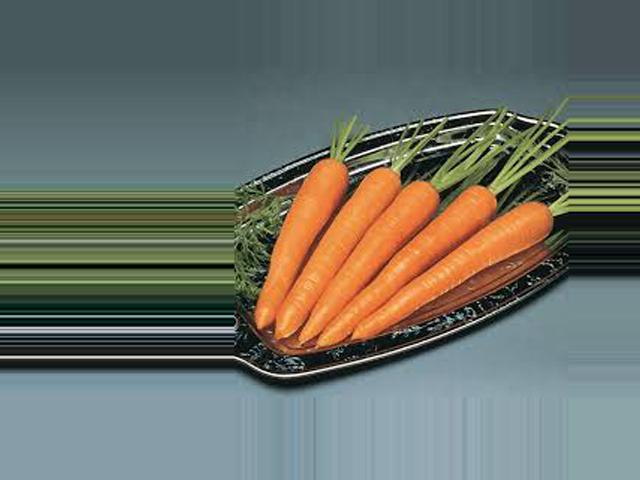carrot: (249, 158, 332, 329)
